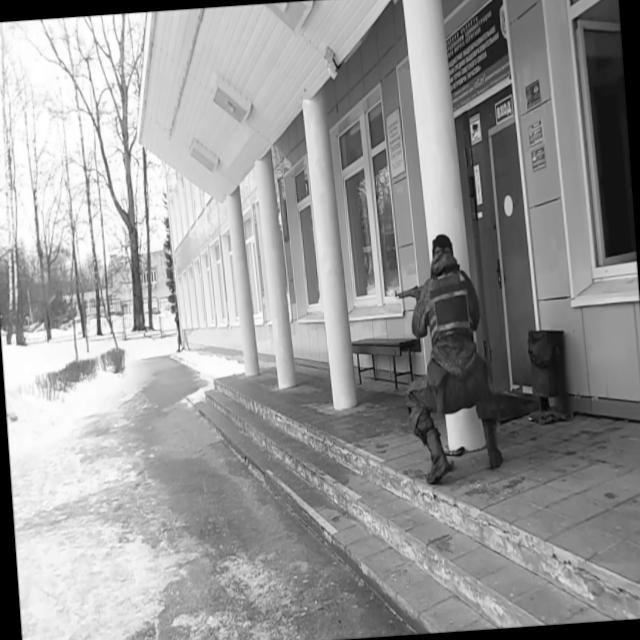gun: (393, 281, 426, 304)
person: (172, 308, 184, 354)
person with a gun: (390, 228, 505, 486)
